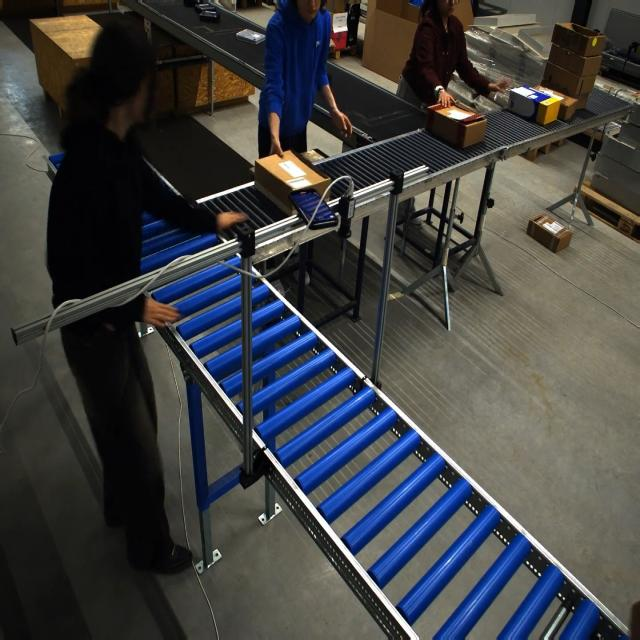box: (254, 149, 328, 215), (425, 93, 487, 152)
product: (235, 28, 265, 44), (199, 8, 220, 21), (195, 3, 216, 14)
